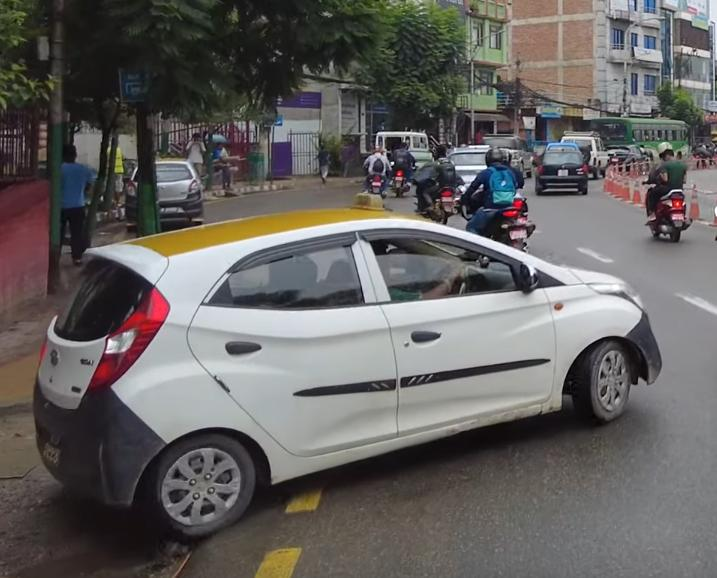bike: (459, 188, 534, 260), (416, 179, 458, 225), (363, 162, 387, 198), (389, 155, 411, 192)
bus: (591, 109, 693, 162)
car: (531, 145, 589, 194)
scooter: (644, 183, 699, 243)
taxi: (24, 203, 666, 530), (121, 154, 208, 228)
